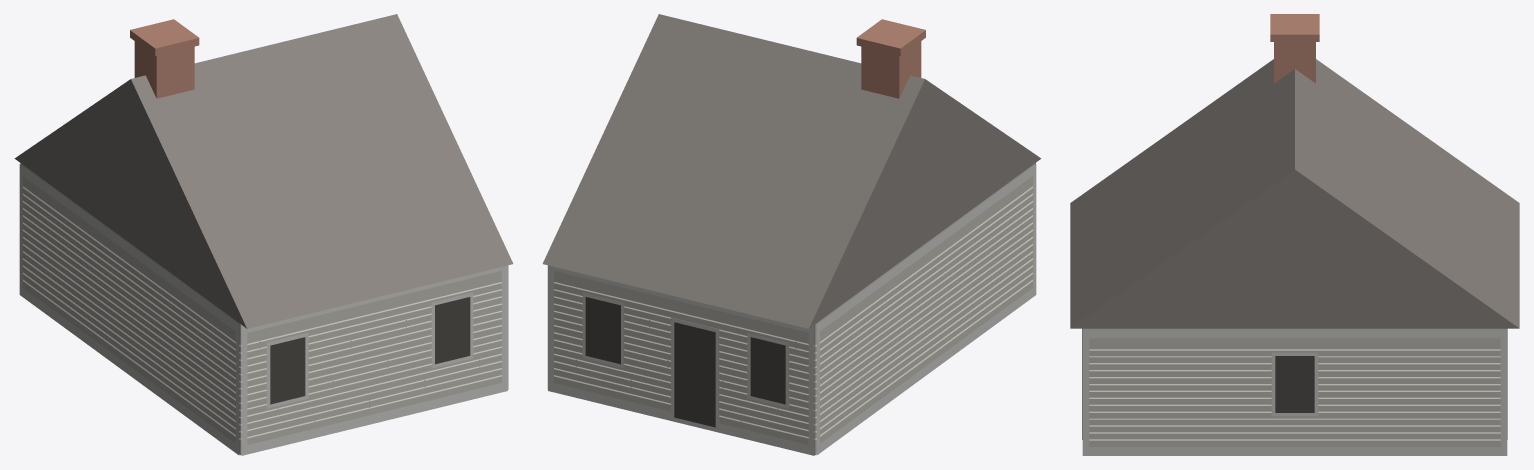
Rendered from recon_1835_south_d4_006__inferred_1835.glb.
The picture shows the model from 3 angles, left to right: view 1: azimuth 30°, elevation 25°; view 2: azimuth 150°, elevation 25°; view 3: azimuth 270°, elevation 25°; orthographic projection. The views are drawn at different scales.
Visible parts, largest first — view 1: recon_1835_south_d4_006__inferred_1835; view 2: recon_1835_south_d4_006__inferred_1835; view 3: recon_1835_south_d4_006__inferred_1835.
Boxes of the visible parts, x1,y1,x2,y2 form: recon_1835_south_d4_006__inferred_1835: (14,14,513,455); recon_1835_south_d4_006__inferred_1835: (542,14,1041,455); recon_1835_south_d4_006__inferred_1835: (1070,14,1519,455).
Bounding box in the file's own units: 5.99 × 7.05 × 8.94.
